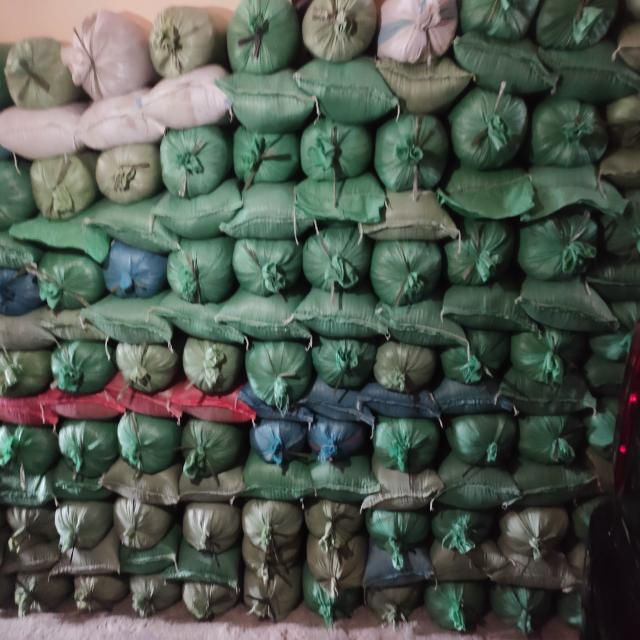Bistay sand: (455, 91, 529, 175), (80, 12, 151, 98), (230, 1, 304, 78), (521, 221, 603, 284), (381, 116, 447, 192), (10, 34, 72, 110), (153, 3, 216, 73), (254, 334, 317, 404), (376, 1, 456, 56), (304, 1, 384, 56), (536, 97, 600, 165), (377, 239, 442, 301), (308, 226, 373, 288), (498, 508, 567, 566), (450, 224, 510, 285), (236, 236, 301, 292), (424, 578, 493, 630), (493, 582, 562, 634), (1, 106, 75, 154), (75, 106, 149, 154), (148, 75, 222, 123), (230, 78, 304, 126), (308, 64, 382, 112), (470, 42, 544, 90), (392, 66, 466, 114), (564, 55, 638, 103), (185, 336, 250, 390), (9, 218, 96, 258), (85, 206, 172, 246), (154, 196, 241, 236), (224, 192, 311, 232), (295, 183, 382, 223), (365, 197, 452, 237), (451, 180, 538, 220), (513, 331, 575, 387), (446, 328, 508, 384), (307, 117, 367, 173), (234, 128, 294, 184), (164, 128, 224, 184), (100, 148, 160, 204), (30, 155, 90, 211), (427, 506, 495, 554), (357, 509, 425, 557), (300, 500, 368, 548), (240, 512, 308, 560), (176, 503, 244, 551), (374, 343, 440, 392), (311, 337, 377, 386), (525, 286, 616, 321), (173, 238, 235, 289), (105, 246, 167, 297), (41, 255, 103, 306), (120, 342, 180, 393), (52, 343, 112, 394), (519, 414, 581, 461), (456, 412, 518, 459), (379, 417, 441, 464), (307, 416, 369, 463), (244, 425, 306, 472), (183, 419, 245, 466), (119, 419, 181, 466), (59, 419, 121, 466), (577, 395, 625, 455), (311, 552, 369, 601), (242, 566, 300, 615), (538, 178, 618, 213), (113, 504, 171, 552), (55, 505, 113, 553), (2, 508, 60, 556), (1, 424, 59, 471), (583, 334, 635, 386), (543, 8, 613, 46), (468, 4, 538, 42), (2, 309, 93, 337), (81, 305, 172, 333), (152, 306, 243, 334), (218, 303, 309, 331), (105, 471, 178, 505), (171, 474, 244, 508), (239, 467, 312, 501), (309, 471, 382, 505), (368, 475, 441, 509), (442, 466, 515, 500), (516, 470, 589, 504), (48, 393, 128, 423), (1, 347, 52, 393), (364, 390, 430, 425), (302, 302, 373, 334), (373, 305, 444, 337), (453, 289, 524, 321), (183, 578, 234, 622), (129, 577, 180, 621), (73, 572, 124, 616), (5, 575, 56, 619), (371, 549, 430, 587), (1, 255, 39, 313), (171, 552, 243, 581), (508, 557, 580, 586), (1, 471, 54, 509), (53, 471, 106, 509), (53, 548, 120, 577), (117, 392, 182, 421), (184, 394, 249, 423), (242, 395, 307, 424), (301, 388, 367, 416), (1, 389, 48, 425), (1, 551, 60, 579), (439, 548, 489, 580), (603, 100, 640, 142), (603, 145, 640, 187), (124, 543, 177, 572), (438, 394, 504, 416), (508, 388, 574, 410)
